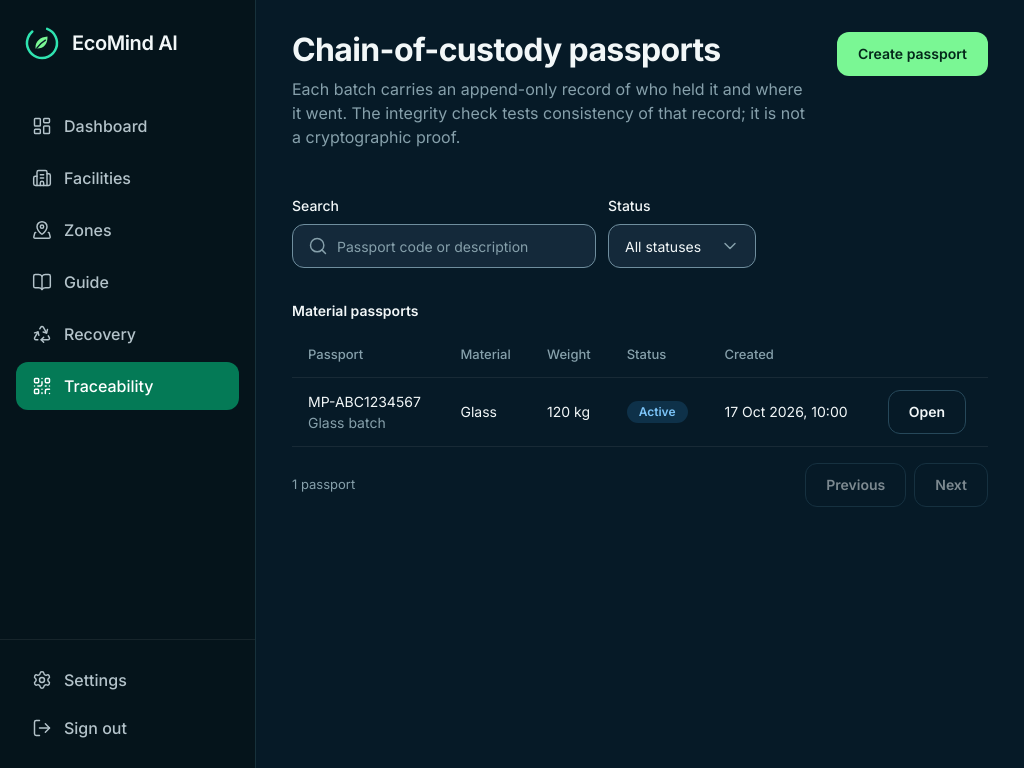
chain-of-custody passports › a closed passport takes no more events; the integrity check reports problems honestly
The width and height of the screenshot is (1024, 768).
What coordinates should you click on to do the following:
click the button with aria-label "Open passport MP-ABC1234567"
I would click on:
 (927, 412)
Its box is [888, 390, 966, 434].
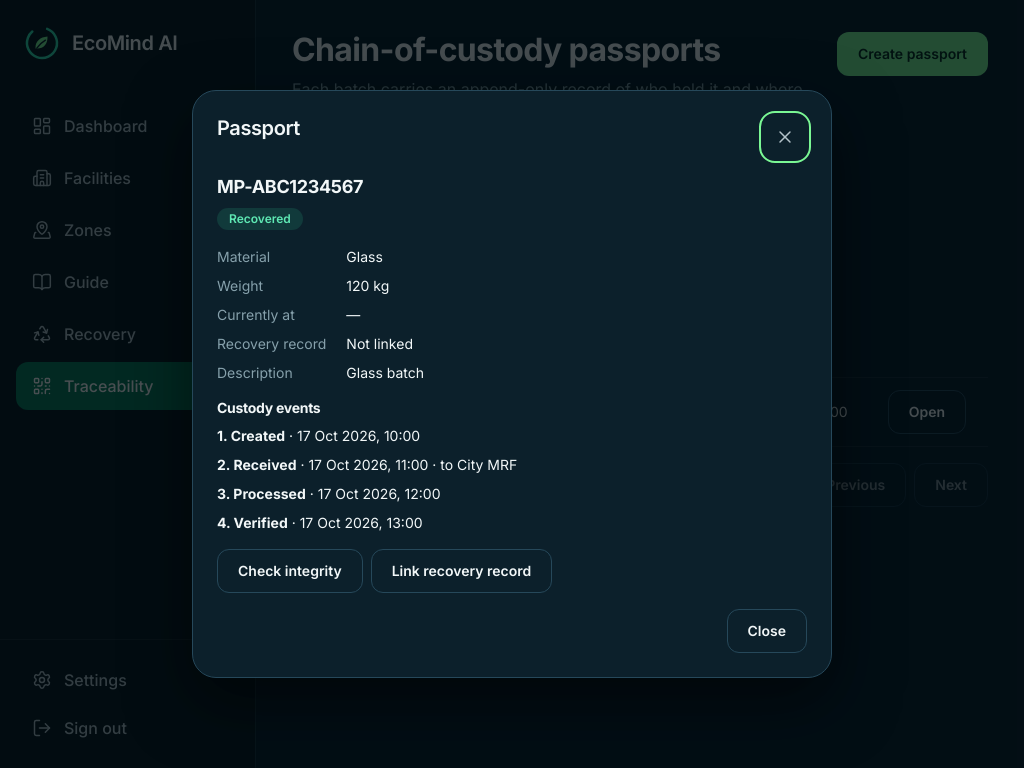
What coordinates should you click on to do the following:
click the button "Check integrity"
I would click on:
 (290, 571)
Its box is [217, 549, 363, 593].
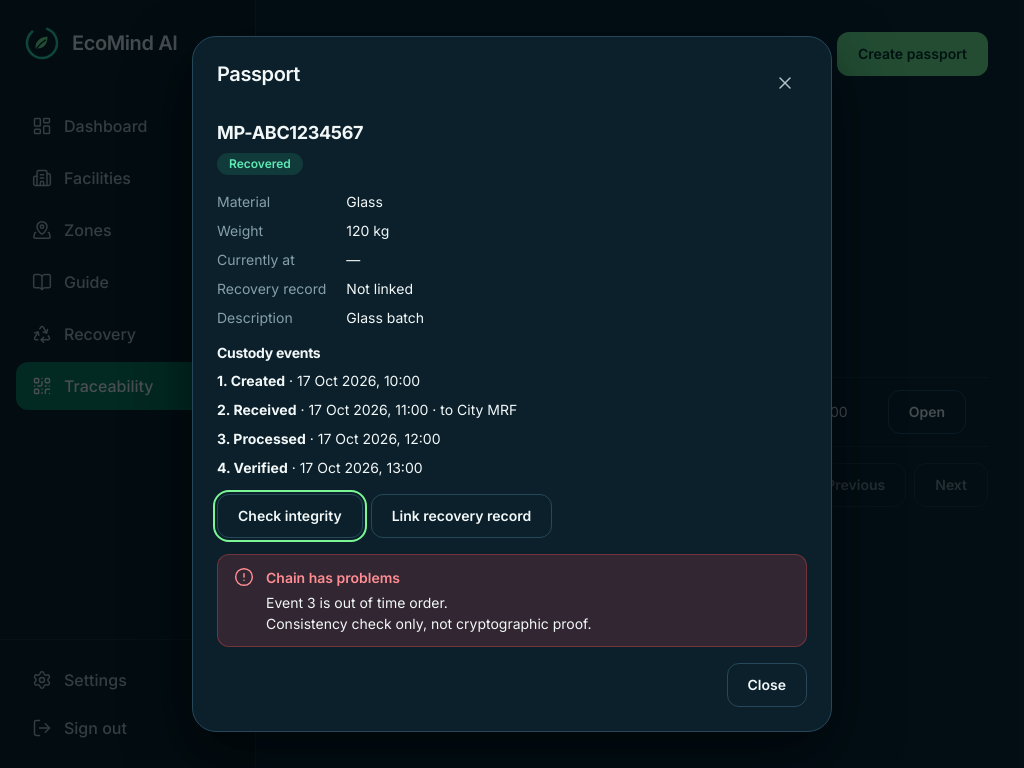
Now the text "Chain has problems" is shown, box [266, 569, 400, 586]
Now the list item "Event 3 is out of time order." is shown, box [266, 594, 448, 611]
Now the text "not cryptographic proof" is shown, box [266, 615, 592, 632]
